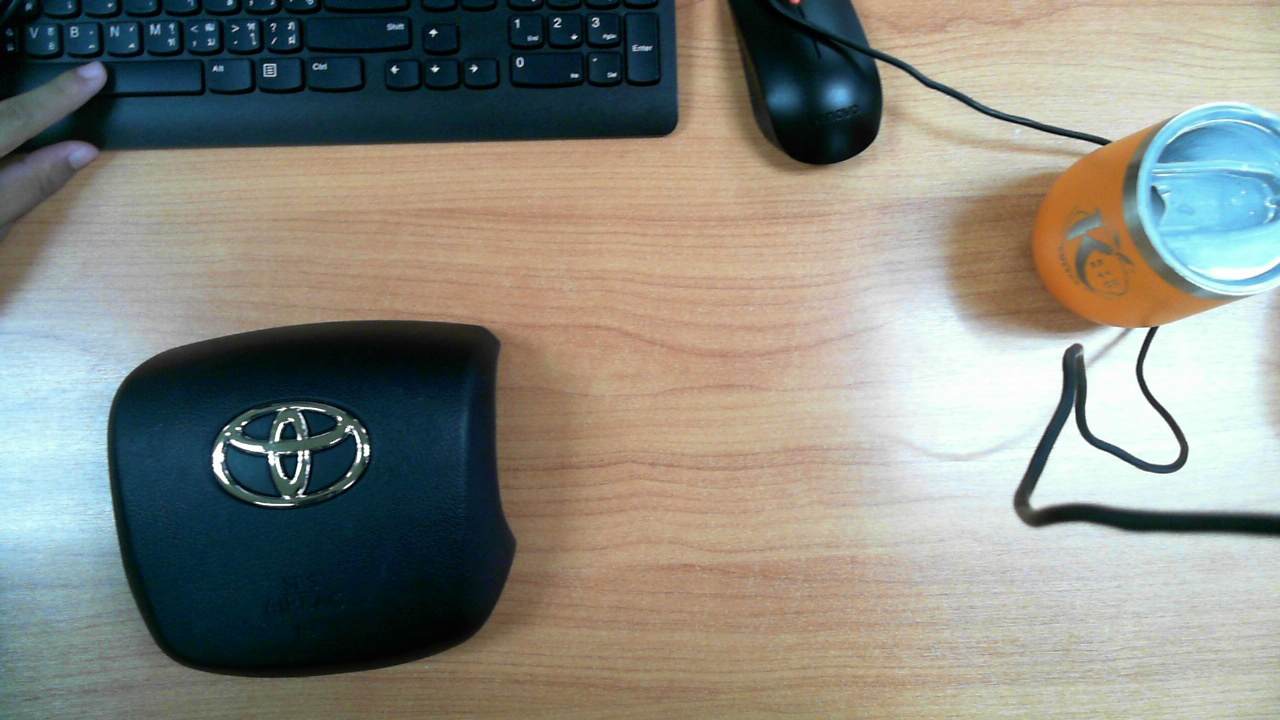Airbag: (107, 319, 516, 679)
Toyota: (211, 405, 370, 507)
